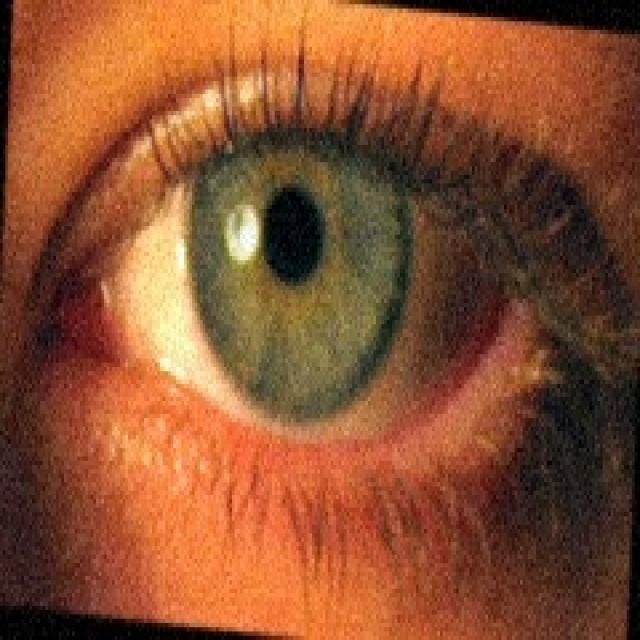Healthy-Eye: (45, 51, 571, 573)
